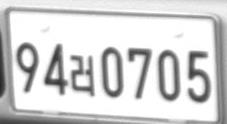0: (101, 46, 123, 98), (158, 49, 180, 101)
4: (43, 43, 68, 95)
5: (188, 50, 211, 103)
7: (128, 47, 151, 99)
9: (16, 42, 39, 92)
러: (69, 55, 94, 95)
